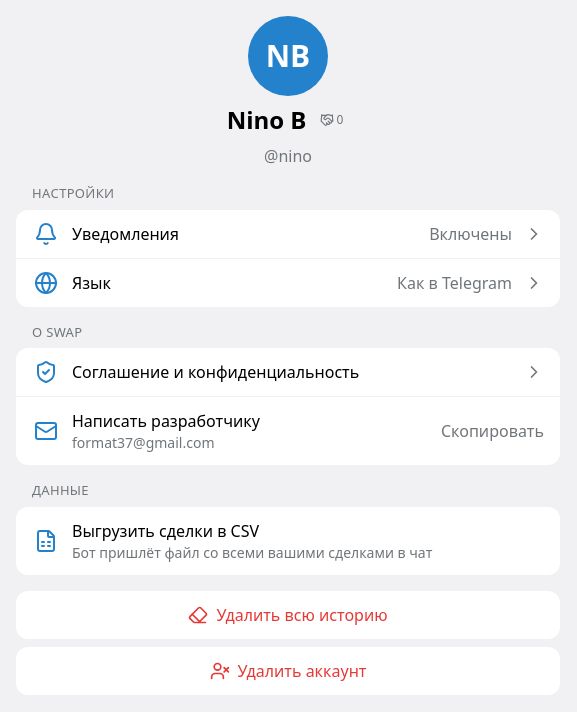
Test: the export (K4) › asks the bot for the file, and says where it comes
Click the button "Выгрузить сделки в CSV".
click(288, 540)  # box x1=16 y1=506 x2=560 y2=574
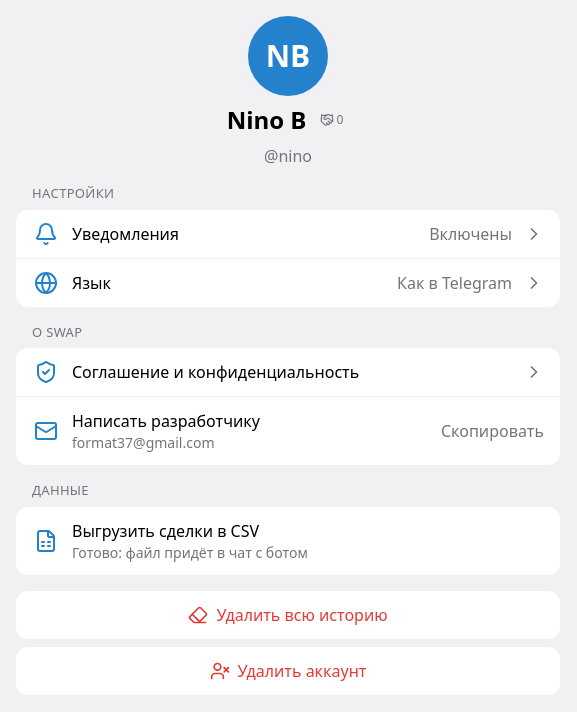
Check: the text "Готово: файл придёт в чат с ботом" is shown, box x1=72 y1=542 x2=308 y2=562
